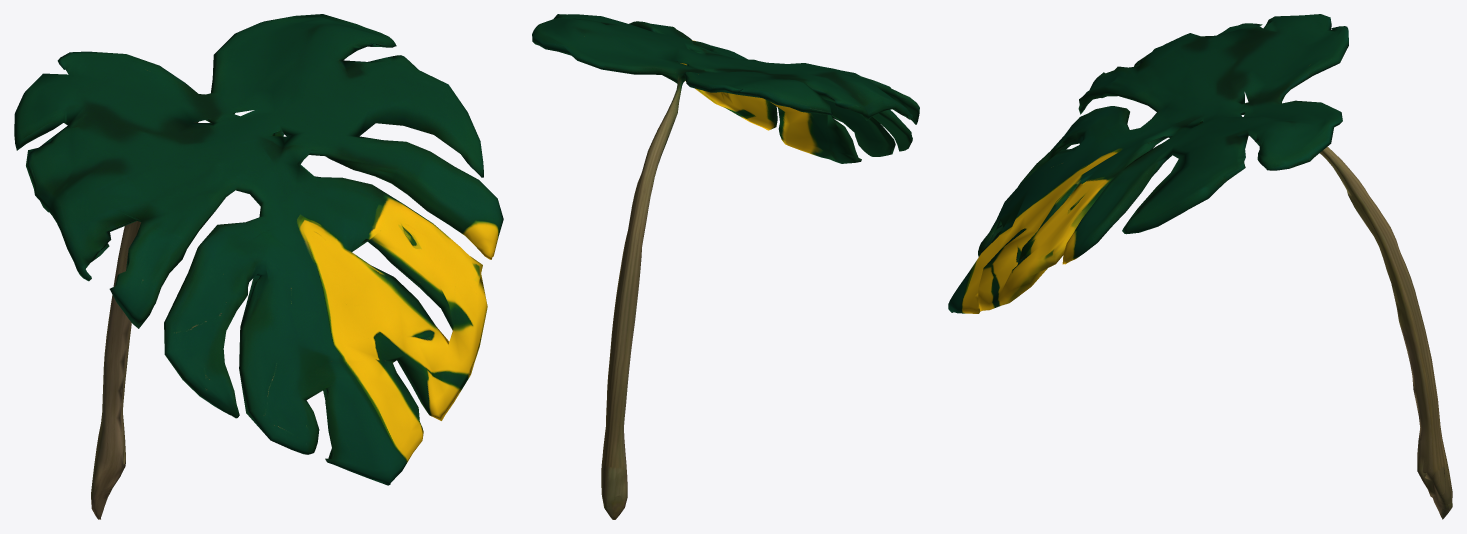
The model's file is mon_green_lemonpatch_new.glb.
The picture shows the model from 3 angles, left to right: view 1: azimuth 30°, elevation 25°; view 2: azimuth 150°, elevation 25°; view 3: azimuth 270°, elevation 25°; orthographic projection. The views are drawn at different scales.
Size of the model in its own units: 1.63 by 1.99 by 2.
1 material, 1 textured.
